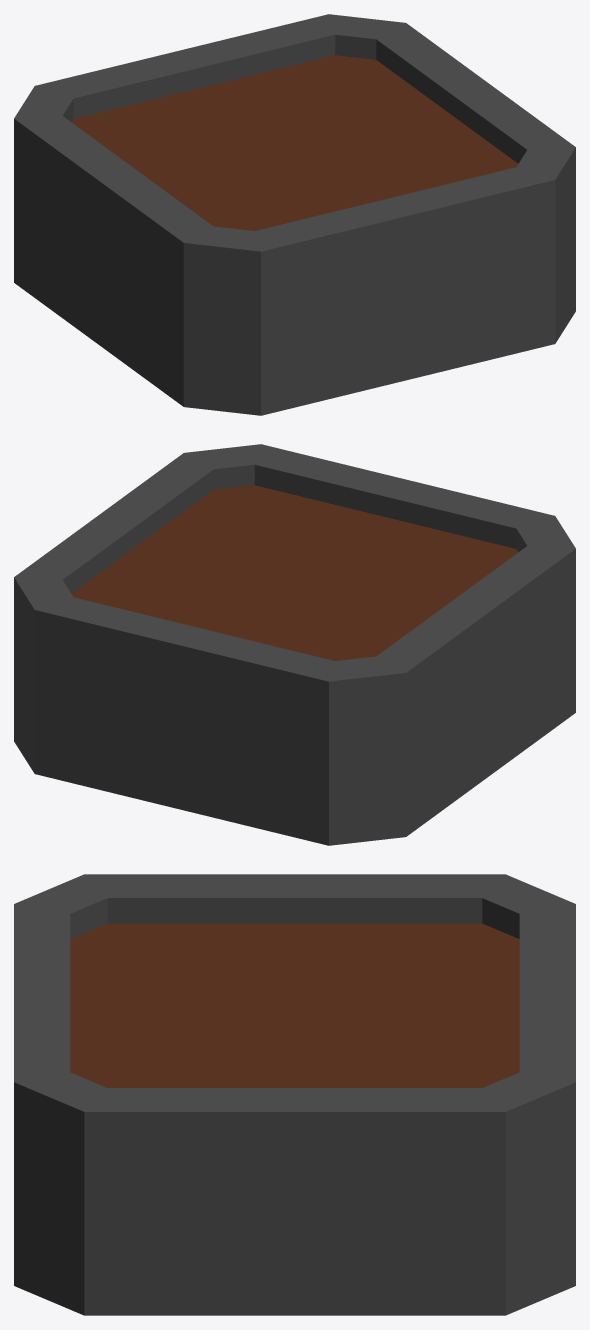
Rendered from Tree Pot.fbx.
3 views of the same model, one above another, from view 1: azimuth 30°, elevation 25°; view 2: azimuth 150°, elevation 25°; view 3: azimuth 270°, elevation 25° (orthographic). The views are drawn at different scales.
Visible parts, largest first — view 1: Tree Pot, Dirt.001; view 2: Tree Pot, Dirt.001; view 3: Tree Pot, Dirt.001.
Part boxes in pixels (box(x1,y1,x2,y2)): Tree Pot: box(14, 14, 575, 415); Dirt.001: box(71, 55, 517, 230); Tree Pot: box(14, 444, 575, 845); Dirt.001: box(72, 485, 518, 660); Tree Pot: box(14, 874, 575, 1315); Dirt.001: box(70, 923, 519, 1087).
Size of the model in its own units: 200 by 80 by 200.
